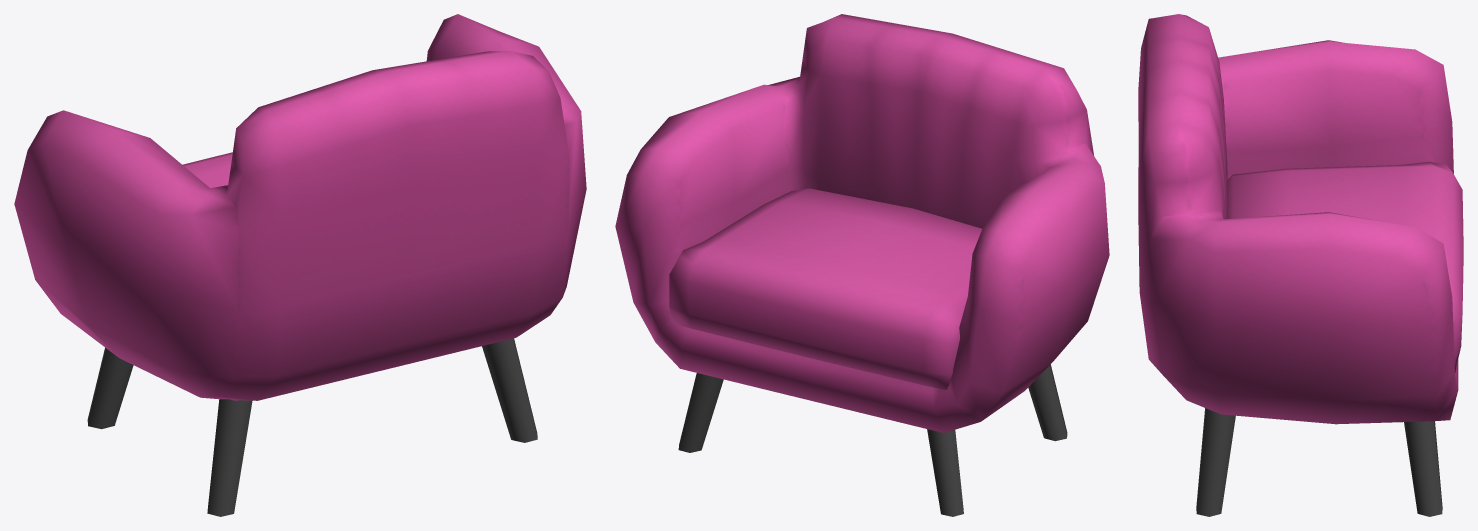
File: FUR0210035.fbx
3 renders of one model, left to right at view 1: azimuth 30°, elevation 25°; view 2: azimuth 150°, elevation 25°; view 3: azimuth 270°, elevation 25°, orthographic. The views are drawn at different scales.
Visible parts, largest first — view 1: smFUR0210035; view 2: smFUR0210035; view 3: smFUR0210035.
Part boxes in pixels (x1,y1,x2,y2): smFUR0210035: (14,14,586,516); smFUR0210035: (615,14,1109,516); smFUR0210035: (1138,14,1463,516).
Size of the model in its own units: 132 by 109 by 84.47.
1 material, 1 textured.
